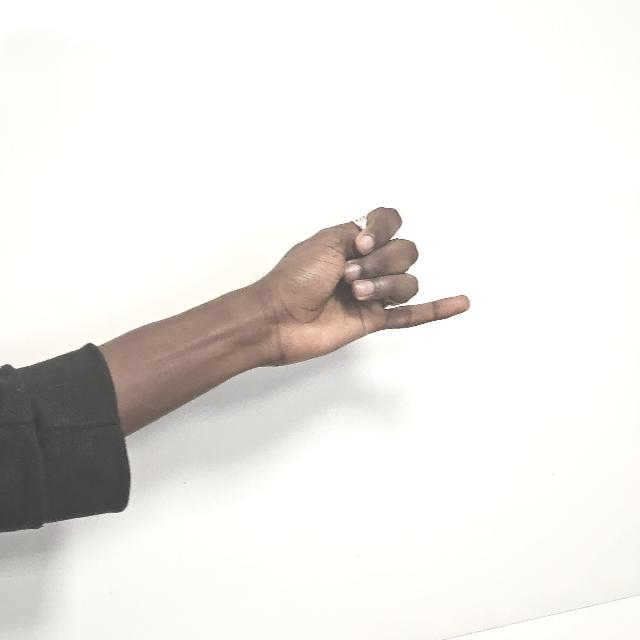Esquerda: (259, 191, 481, 357)
